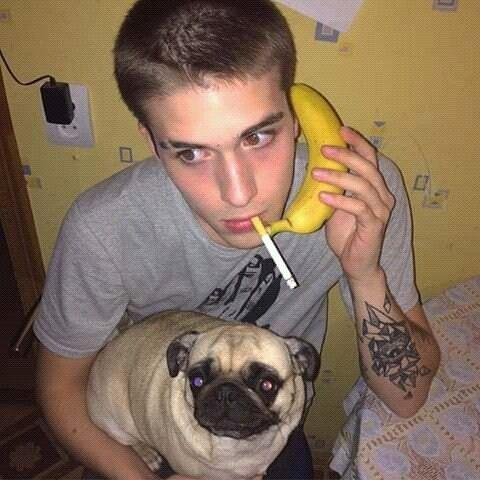cigarette: (251, 217, 298, 288)
